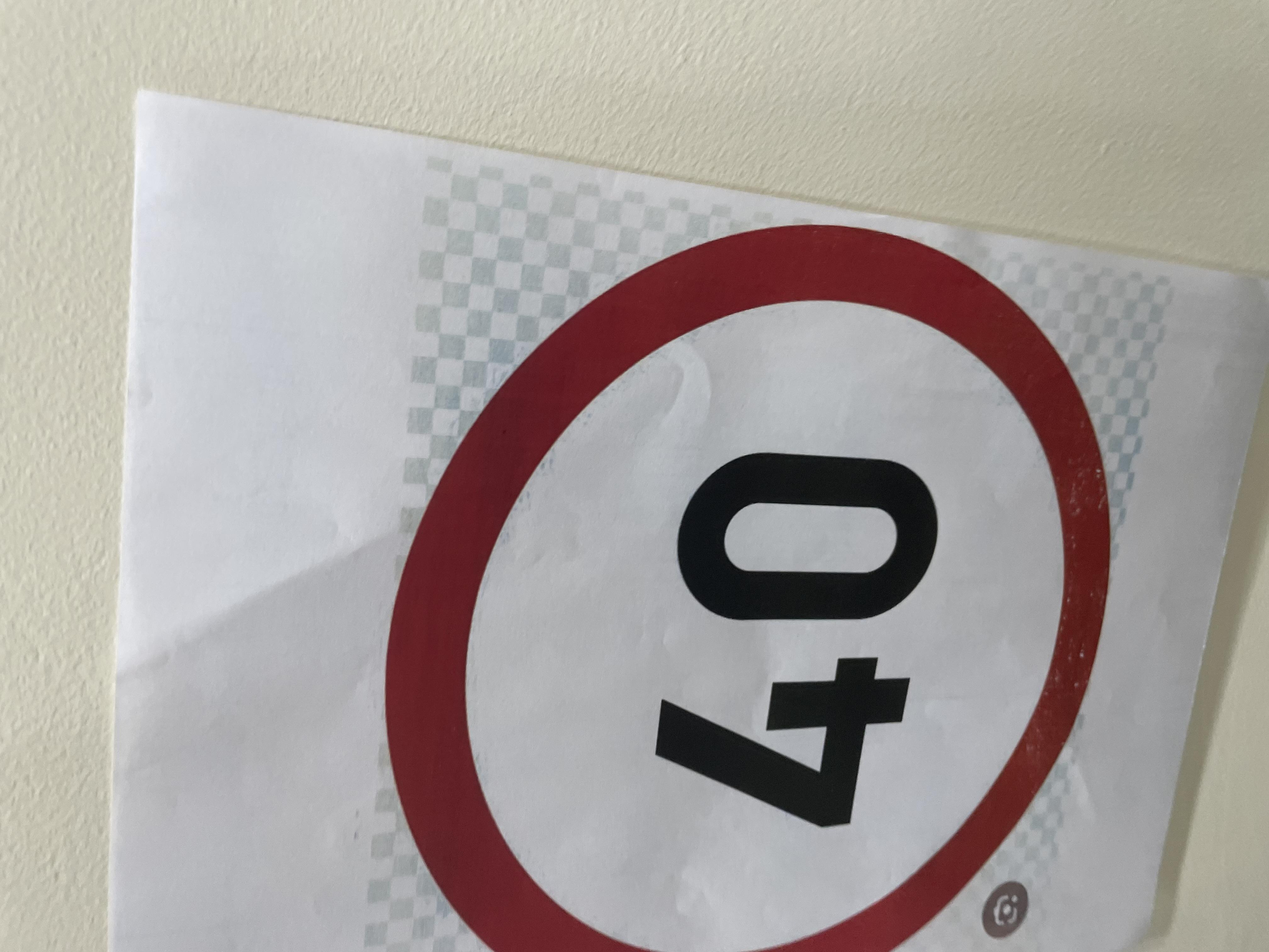40-Speed: (9, 260, 955, 831)
